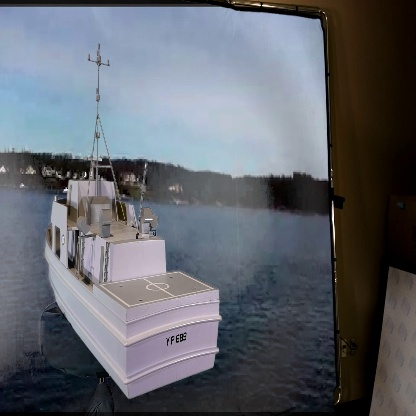YP689: (44, 47, 221, 402)
